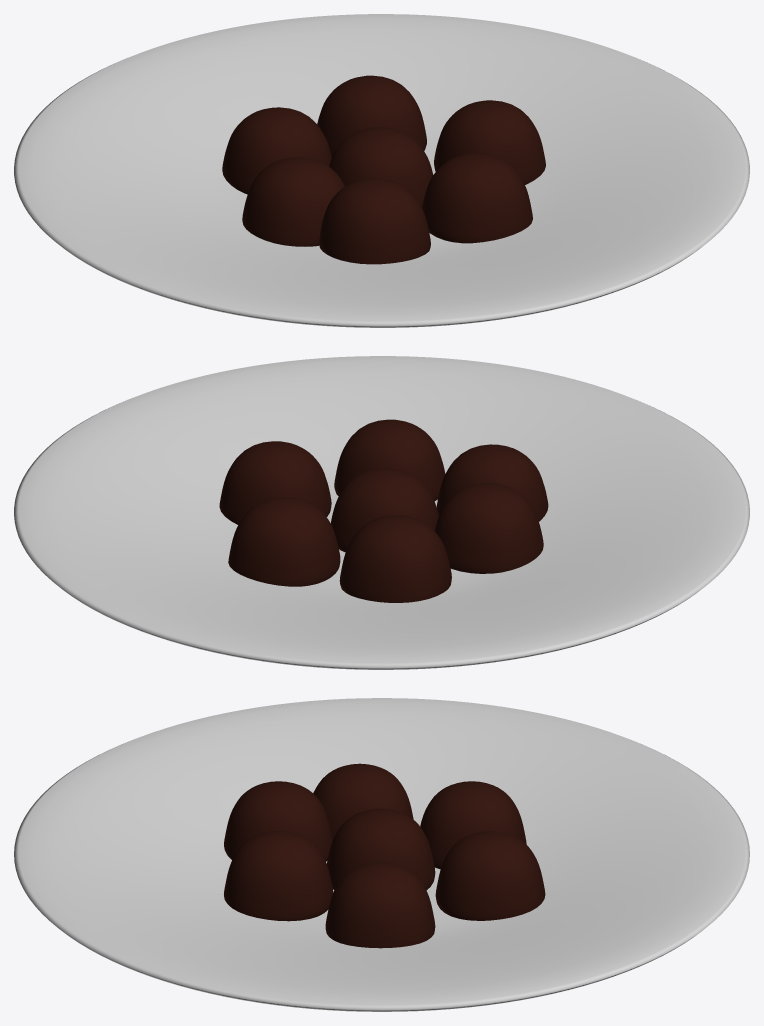
File: chcplt.fbx
The picture shows the model from 3 angles, top to bottom: view 1: azimuth 30°, elevation 25°; view 2: azimuth 150°, elevation 25°; view 3: azimuth 270°, elevation 25°; orthographic projection.
Visible parts, largest first — view 1: Cylinder, Cube.028, Cube.029, Cube.031, Cube.026, Cube.030, Cube.027, Cube.025; view 2: Cylinder, Cube.027, Cube.030, Cube.031, Cube.026, Cube.028, Cube.025, Cube.029; view 3: Cylinder, Cube.028, Cube.027, Cube.026, Cube.025, Cube.029, Cube.030, Cube.031.
Boxes of the visible parts, <box> form: Cylinder: <box>14,14,749,327</box>; Cube.028: <box>422,153,532,243</box>; Cube.029: <box>319,178,430,264</box>; Cube.031: <box>242,157,344,246</box>; Cube.026: <box>434,100,545,184</box>; Cube.030: <box>222,107,331,194</box>; Cube.027: <box>317,75,426,157</box>; Cube.025: <box>329,127,433,207</box>; Cylinder: <box>14,356,749,669</box>; Cube.027: <box>228,497,340,586</box>; Cube.030: <box>339,515,451,602</box>; Cube.031: <box>434,483,543,573</box>; Cube.026: <box>219,441,331,524</box>; Cube.028: <box>334,419,445,500</box>; Cube.025: <box>330,468,438,552</box>; Cube.029: <box>436,444,548,521</box>; Cylinder: <box>14,698,749,1011</box>; Cube.028: <box>224,831,333,921</box>; Cube.027: <box>435,831,545,920</box>; Cube.026: <box>325,862,435,948</box>; Cube.025: <box>327,808,435,890</box>; Cube.029: <box>224,781,332,861</box>; Cube.030: <box>420,781,526,869</box>; Cube.031: <box>313,763,413,840</box>.
Size of the model in its own units: 9.28 by 1.09 by 9.28.
